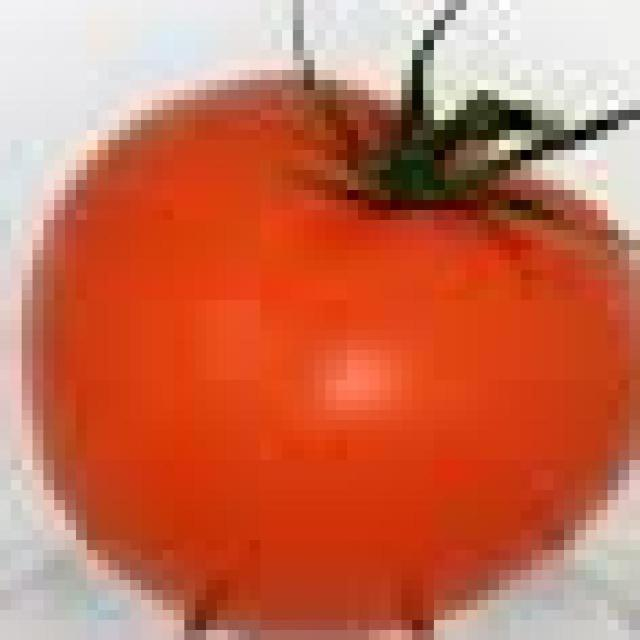Healthy Fruit: (15, 29, 423, 427)
